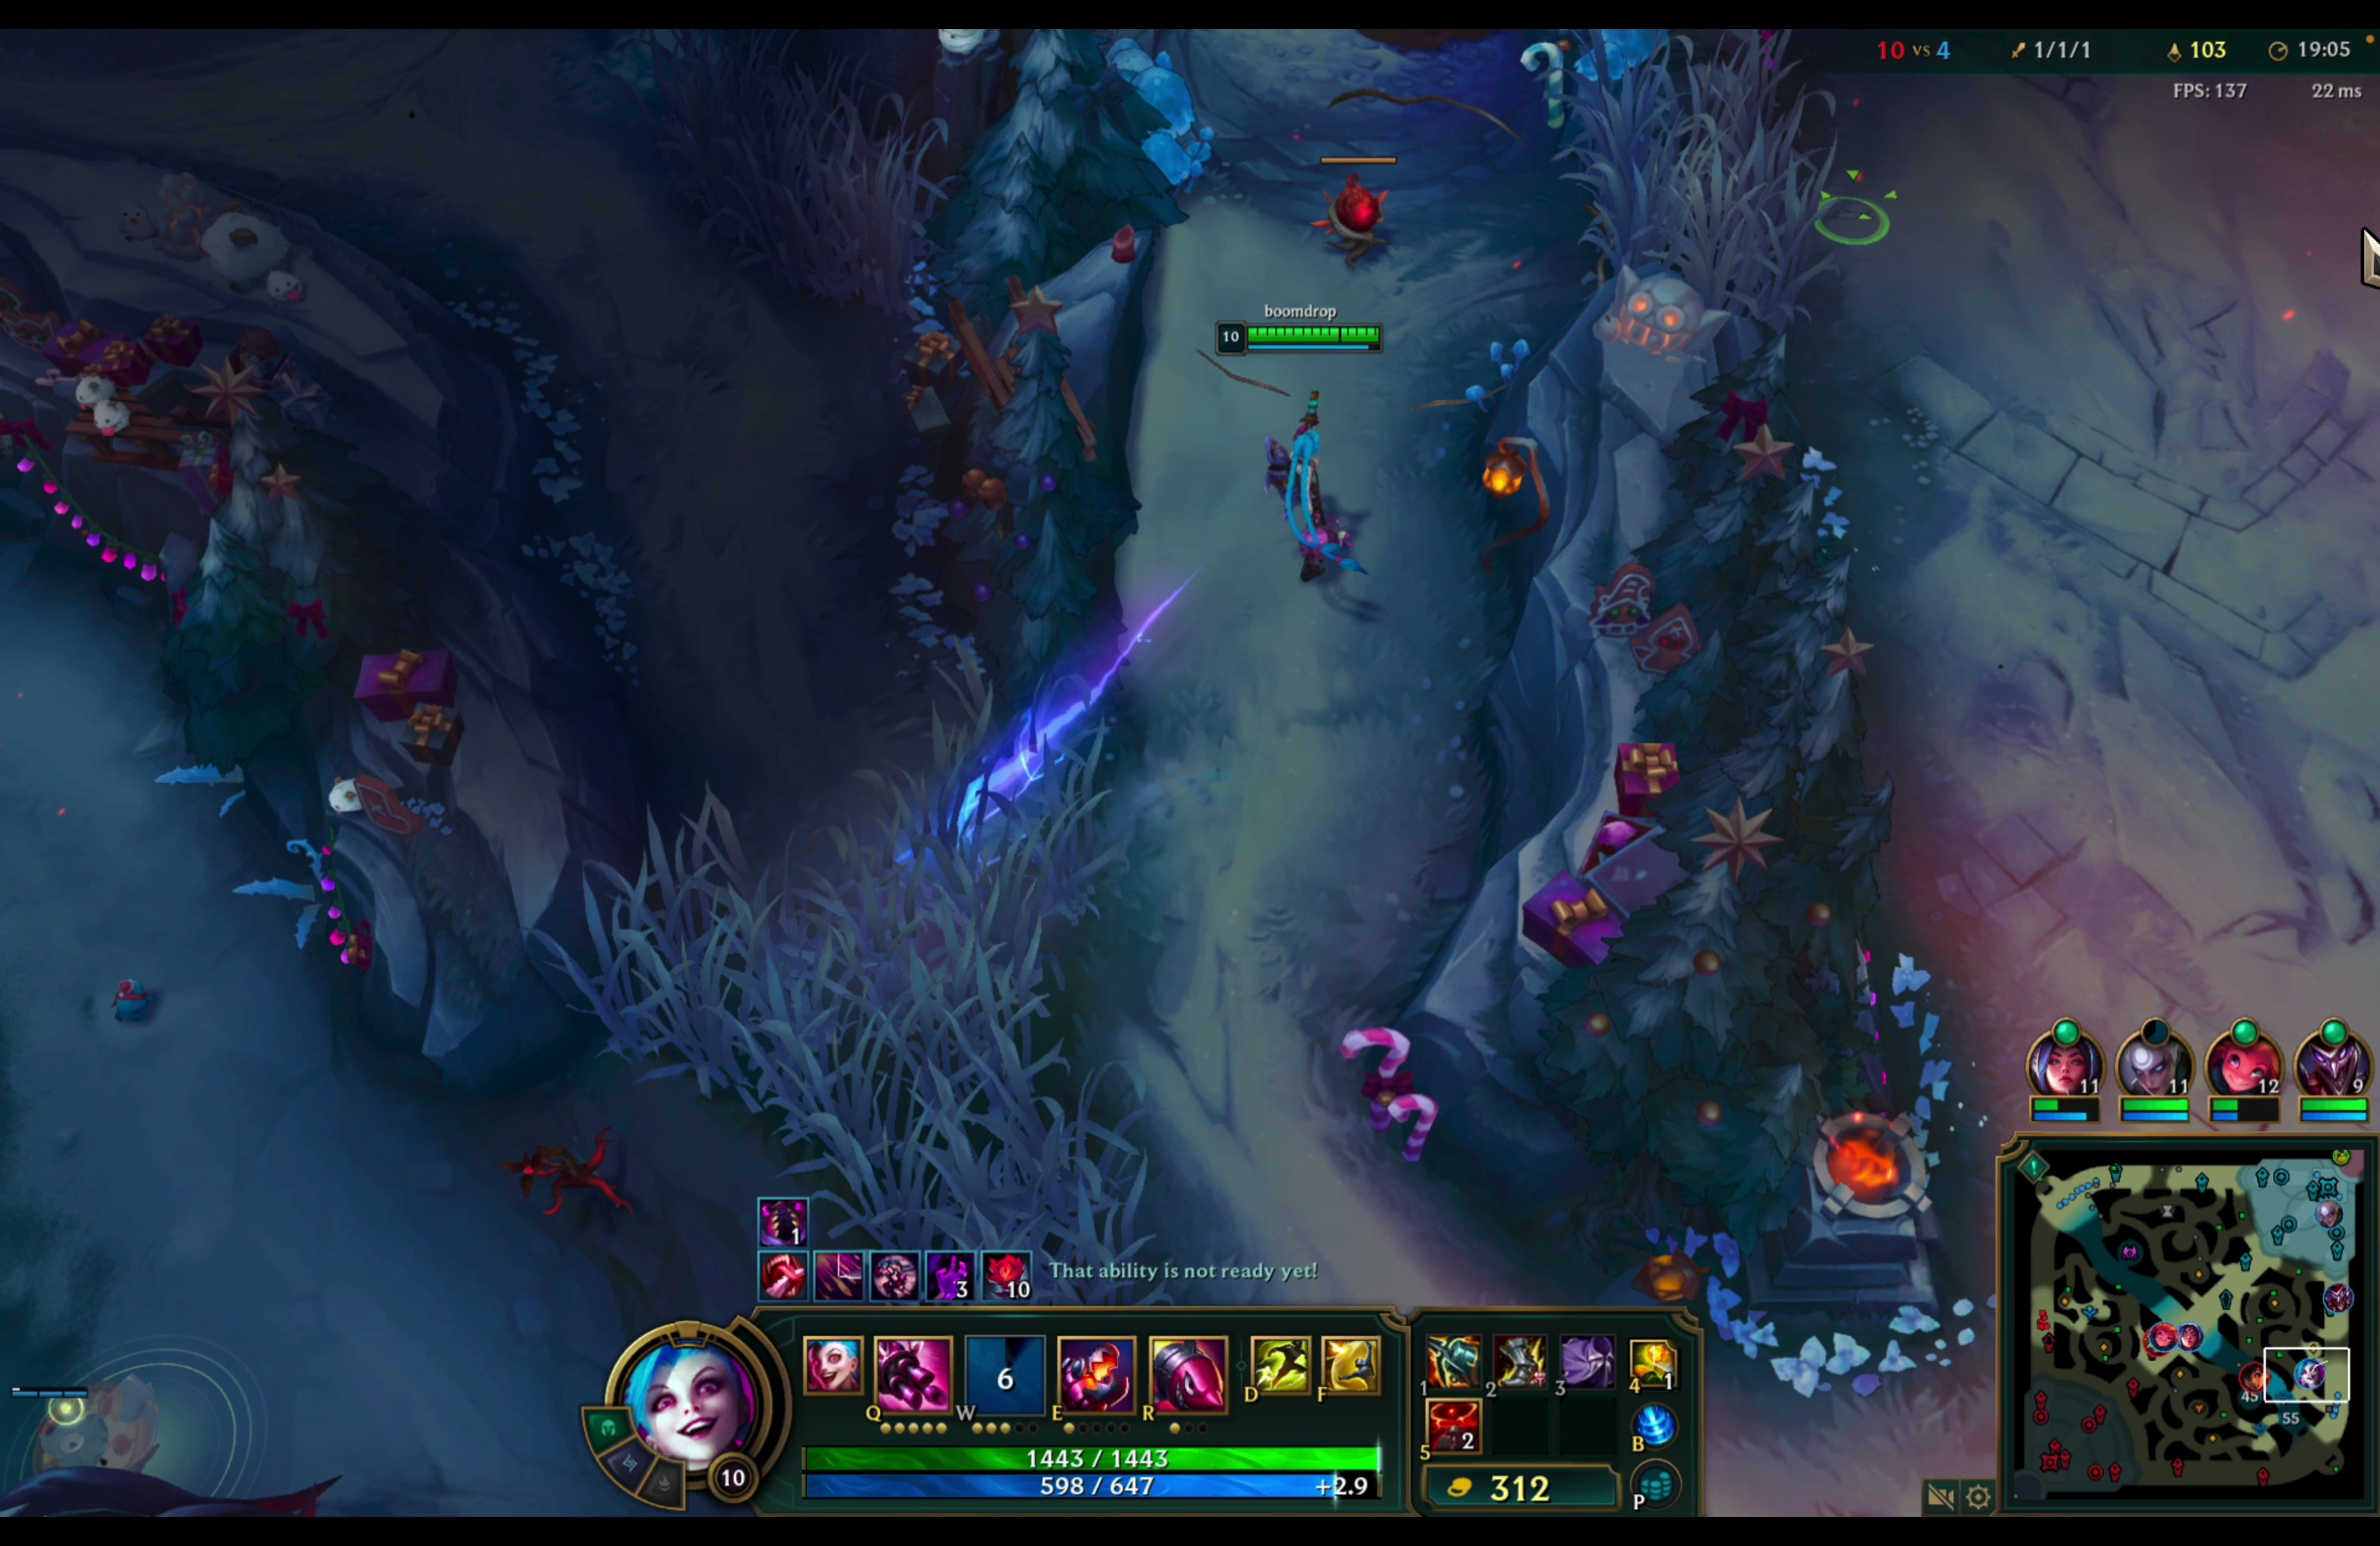JINX_W_PROJECTILE: (855, 571, 1193, 897)
